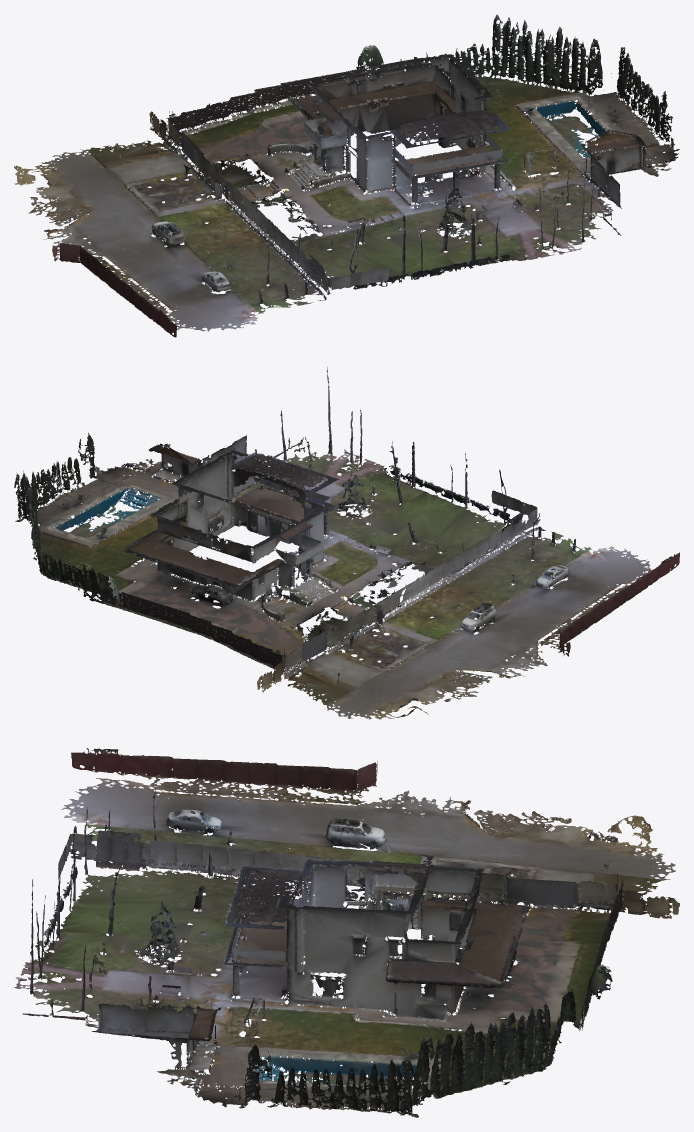
File: exterior.glb
The picture shows the model from 3 angles, top to bottom: view 1: azimuth 30°, elevation 25°; view 2: azimuth 150°, elevation 25°; view 3: azimuth 270°, elevation 25°; orthographic projection. The views are drawn at different scales.
Parts seen in each view (by area): view 1: exterior_source_to_Y_up; view 2: exterior_source_to_Y_up; view 3: exterior_source_to_Y_up.
Boxes of the visible parts, x1,y1,x2,y2 form: exterior_source_to_Y_up: (14,14,679,337); exterior_source_to_Y_up: (14,367,679,719); exterior_source_to_Y_up: (14,748,679,1117).
Size of the model in its own units: 67.23 by 13.74 by 52.49.
